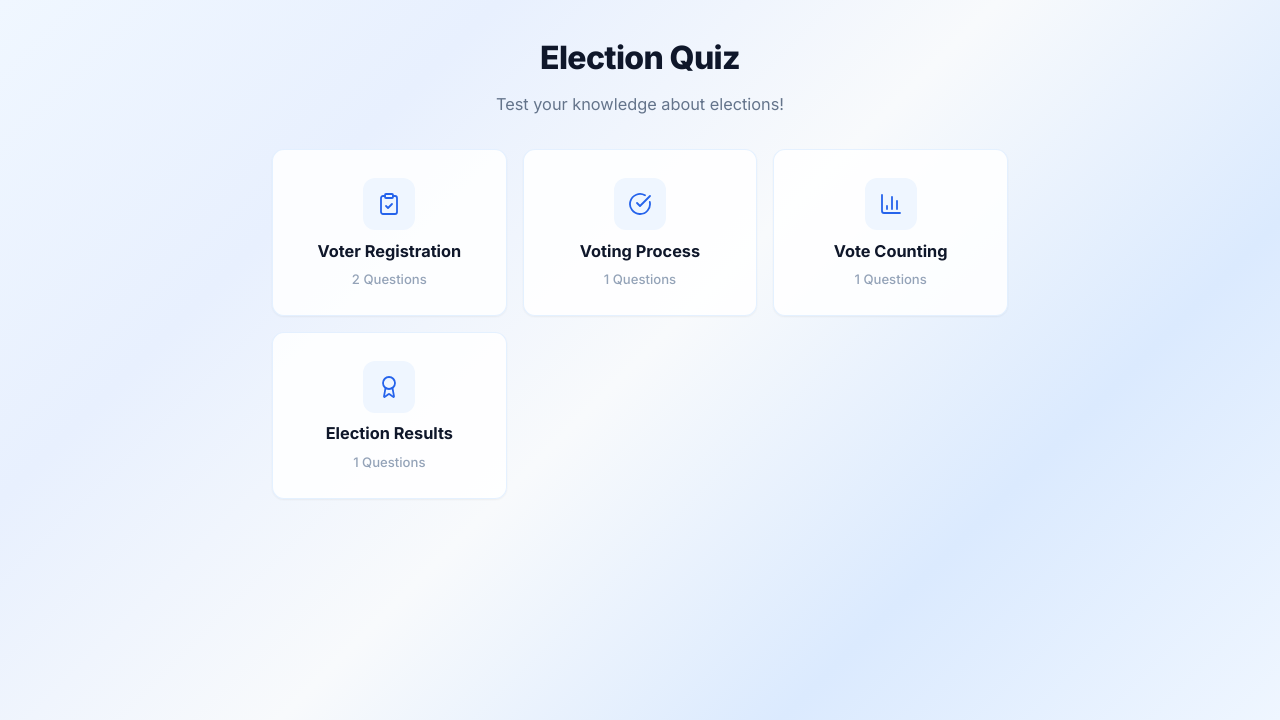
Test: Quiz Component › Category Selection › should start quiz when category is clicked
The width and height of the screenshot is (1280, 720).
Click the button "Voter Registration 2 Questions". click: (389, 233)
box: [272,149,507,316]
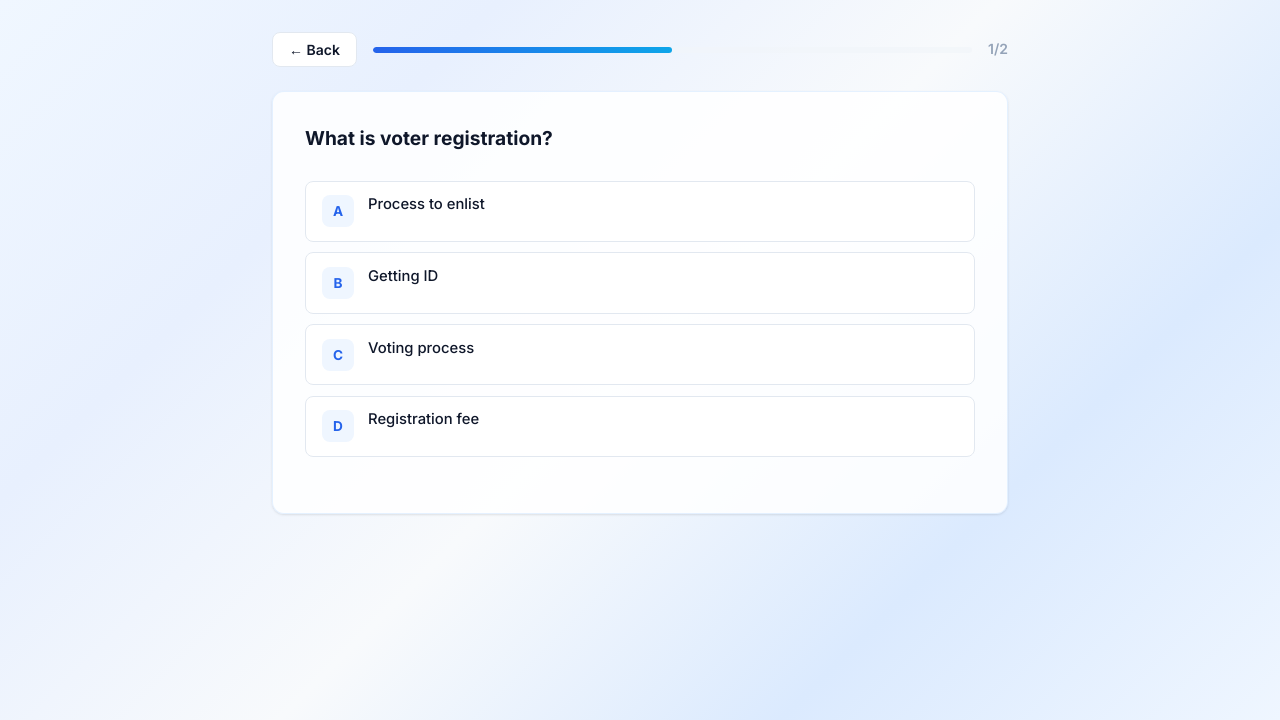
Check: the heading "What is voter registration?" is shown, box [305,126,553,150]
